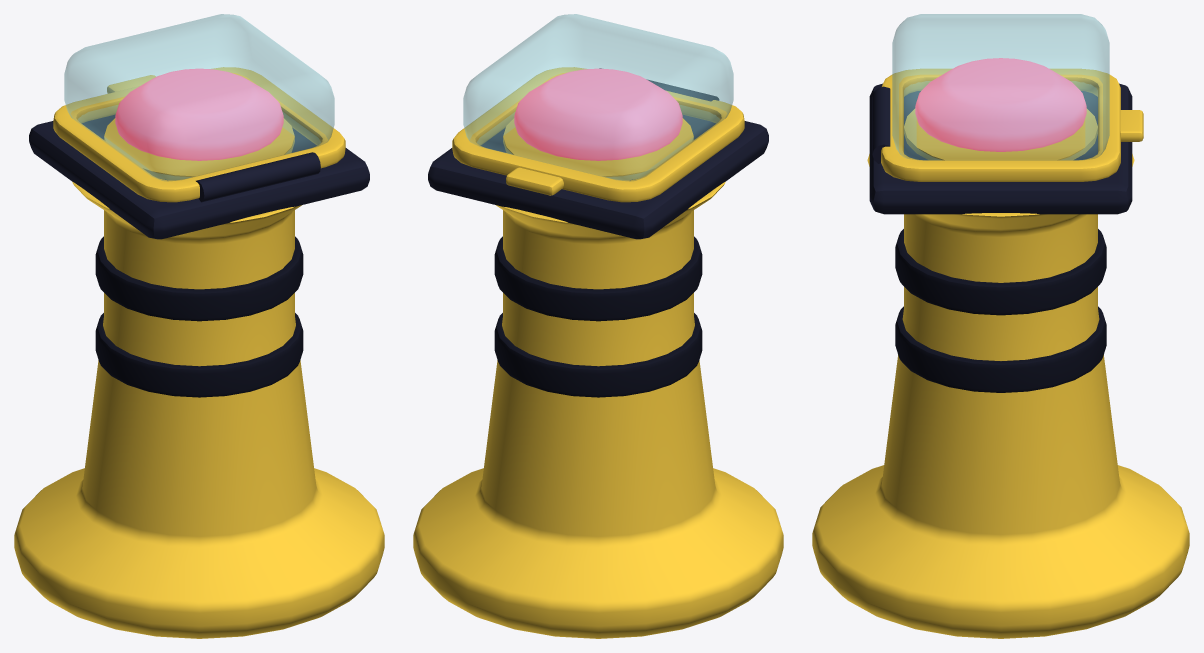
The model's file is emergency_button.glb.
The picture shows the model from 3 angles, left to right: view 1: azimuth 30°, elevation 25°; view 2: azimuth 150°, elevation 25°; view 3: azimuth 270°, elevation 25°; orthographic projection.
Parts seen in each view (by area): view 1: Body, Cover, Button; view 2: Body, Cover, Button; view 3: Body, Cover, Button.
Part boxes in pixels (<box>): Body: <box>14,115,384,638</box>; Cover: <box>53,14,345,202</box>; Button: <box>115,68,283,160</box>; Body: <box>413,68,783,638</box>; Cover: <box>452,14,744,202</box>; Button: <box>514,68,682,160</box>; Body: <box>812,83,1189,638</box>; Cover: <box>881,14,1143,181</box>; Button: <box>915,58,1086,151</box>.
Size of the model in its own units: 0.66 by 1 by 0.66.
